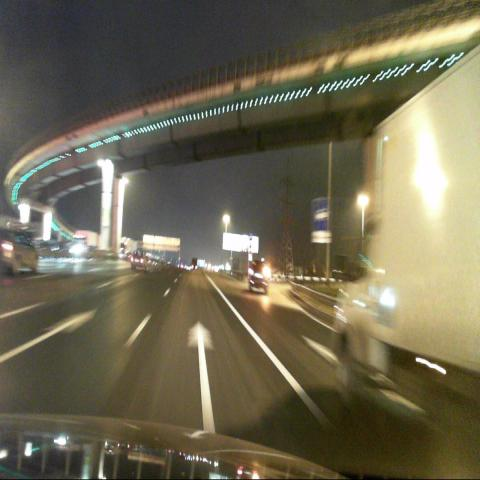5_3: (314, 198, 328, 231)
